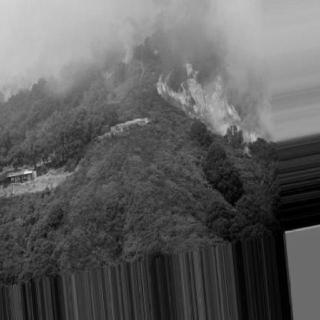Fire: (248, 121, 264, 148)
